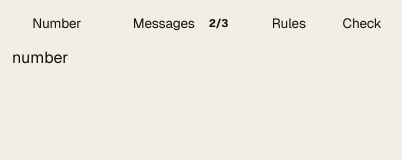
Test: agent tabs › moves with the arrow keys, wraps round, and jumps with Home and End
Press ArrowRight in the tab "Number", box top-left (16, 4), bottom-right (112, 42)
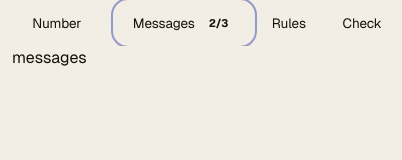
Expected: the text with test id "now" reads "messages", top-left (12, 47), bottom-right (87, 68)
Press End in the tab "Messages 2/3", box top-left (116, 4), bottom-right (251, 42)
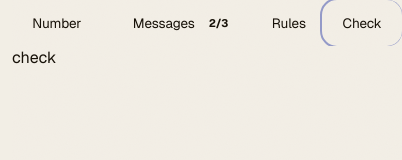
Expected: the text with test id "now" reads "check", top-left (12, 47), bottom-right (56, 68)
Press ArrowRight in the tab "Check", box top-left (326, 4), bottom-right (398, 42)
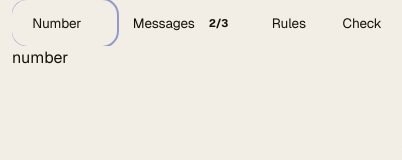
Expected: the text with test id "now" reads "number", top-left (12, 47), bottom-right (68, 68)
Press ArrowLeft in the tab "Number", box top-left (16, 4), bottom-right (112, 42)
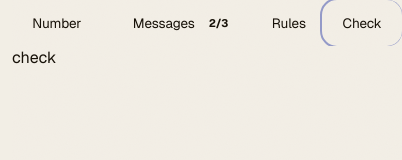
Expected: the text with test id "now" reads "check", top-left (12, 47), bottom-right (56, 68)
Click the tab "Rules".
click(289, 23)  # box top-left (256, 4), bottom-right (322, 42)
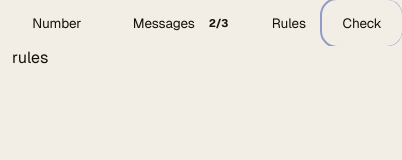
Expected: the text with test id "now" reads "rules", top-left (12, 47), bottom-right (48, 68)
